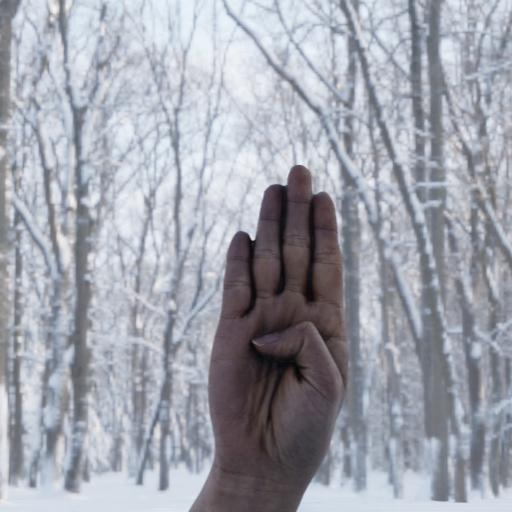B: (162, 152, 440, 512)
